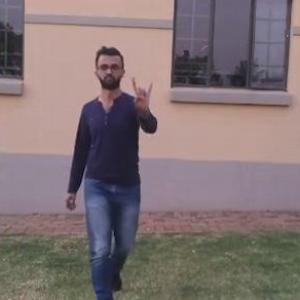takeoff-hand: (126, 72, 158, 120)
